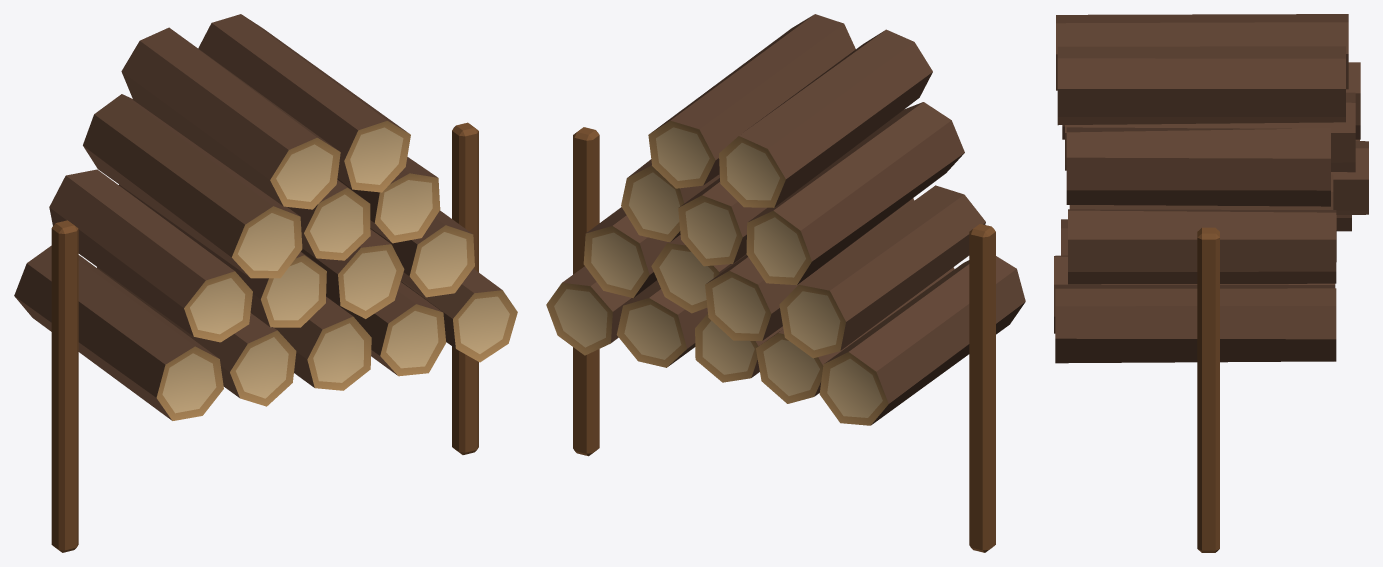
The model's file is SM_Firewood_Stack.glb.
The picture shows the model from 3 angles, left to right: view 1: azimuth 30°, elevation 25°; view 2: azimuth 150°, elevation 25°; view 3: azimuth 270°, elevation 25°; orthographic projection.
Visible parts, largest first — view 1: SM_Firewood_Stack; view 2: SM_Firewood_Stack; view 3: SM_Firewood_Stack.
Part boxes in pixels (bbox=[...]): SM_Firewood_Stack: bbox=[14, 14, 517, 552]; SM_Firewood_Stack: bbox=[546, 14, 1025, 552]; SM_Firewood_Stack: bbox=[1054, 14, 1368, 552].
Size of the model in its own units: 0.84 by 0.8148 by 0.5536.
1 material, 1 textured.
